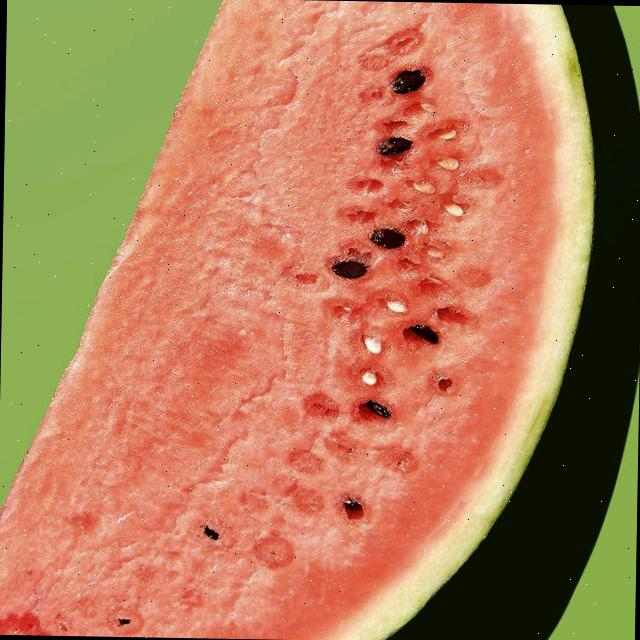watermelon: (0, 0, 597, 640)
